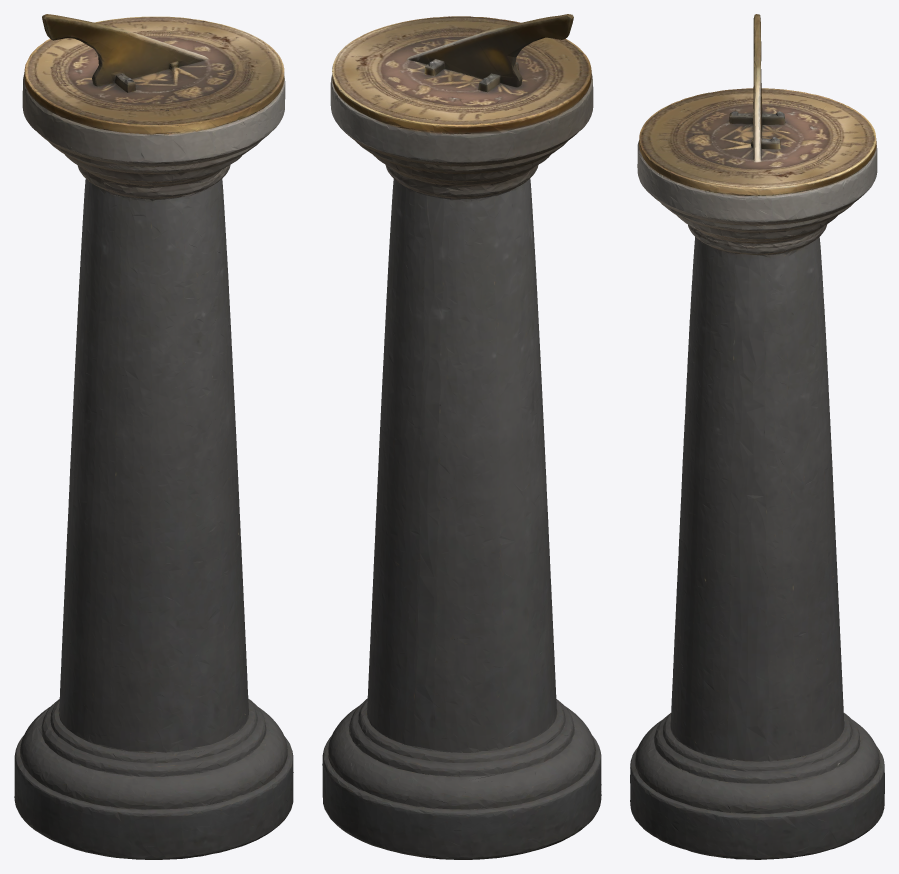
Rendered from refined.glb.
3 views of the same model, side by side, from view 1: azimuth 30°, elevation 25°; view 2: azimuth 150°, elevation 25°; view 3: azimuth 270°, elevation 25° (orthographic). The views are drawn at different scales.
Visible parts, largest first — view 1: world; view 2: world; view 3: world.
Boxes of the visible parts, x1,y1,x2,y2 form: world: (14,14,293,859); world: (322,14,601,859); world: (630,14,884,859).
Bounding box in the file's own units: 0.3109 × 1 × 0.3107.
1 material, 1 textured.
